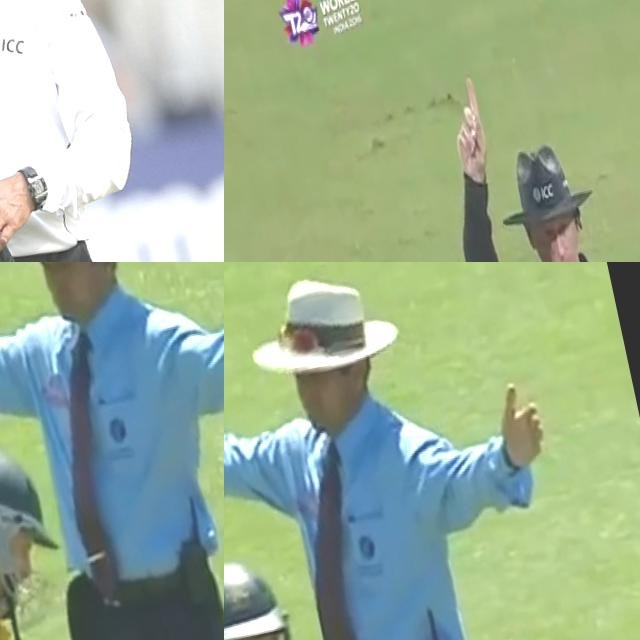No_Action: (0, 0, 186, 262)
Out: (423, 38, 640, 262)
Wide: (224, 262, 581, 640), (0, 262, 224, 640)
